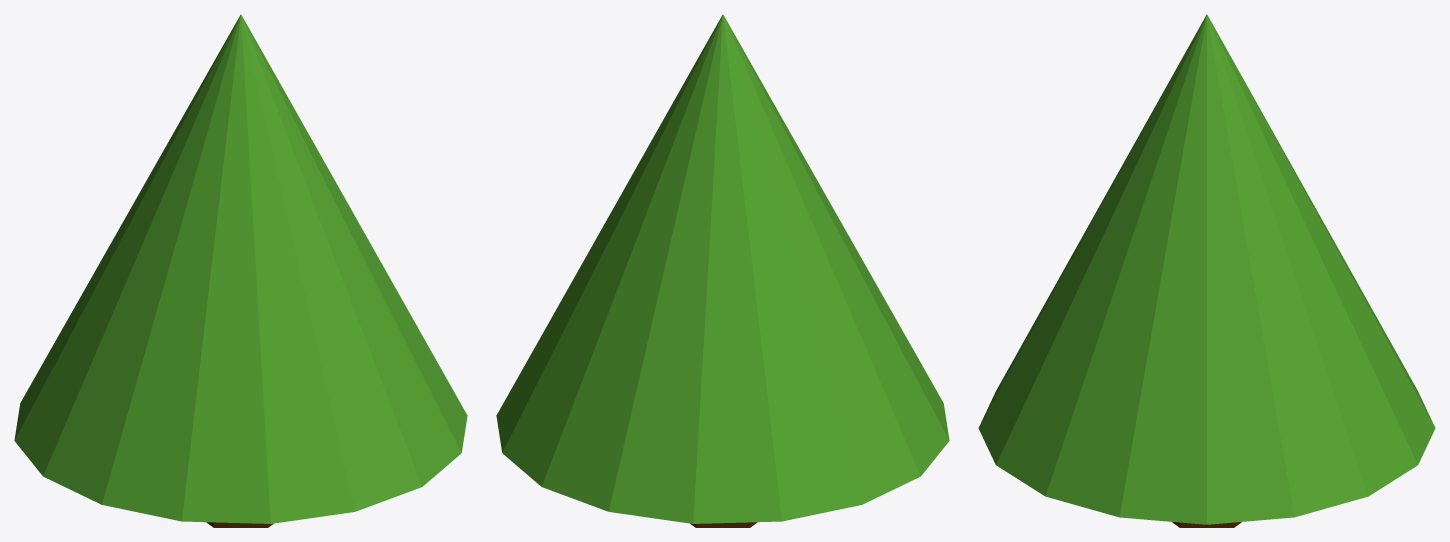
The model's file is towntree.fbx.
3 renders of one model, left to right at view 1: azimuth 30°, elevation 25°; view 2: azimuth 150°, elevation 25°; view 3: azimuth 270°, elevation 25°, orthographic.
Visible parts, largest first — view 1: Cylinder; view 2: Cylinder; view 3: Cylinder.
Boxes of the visible parts, x1,y1,x2,y2 form: Cylinder: (14,14,467,527); Cylinder: (496,14,949,527); Cylinder: (978,14,1435,527).
Bounding box in the file's own units: 224 × 267 × 224.
